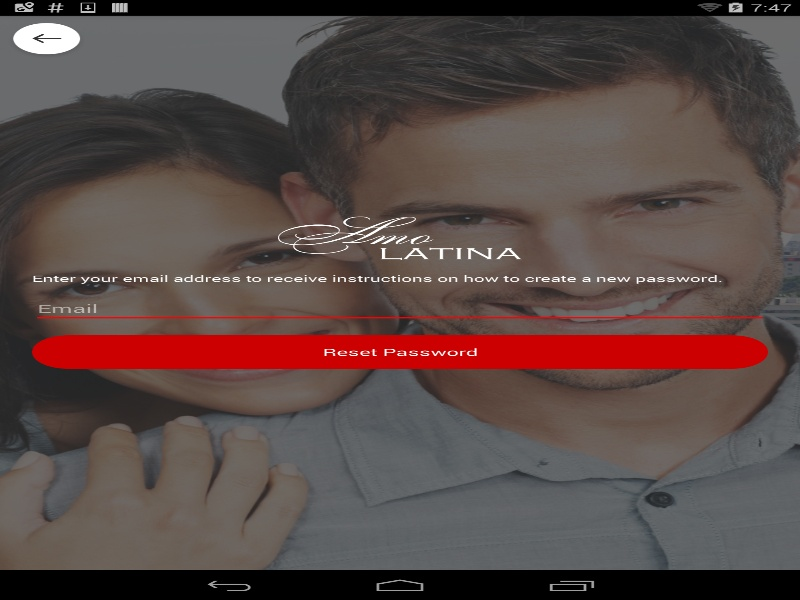Button: (32, 335, 768, 368), (6, 21, 86, 59)
Input: (32, 294, 768, 322)
